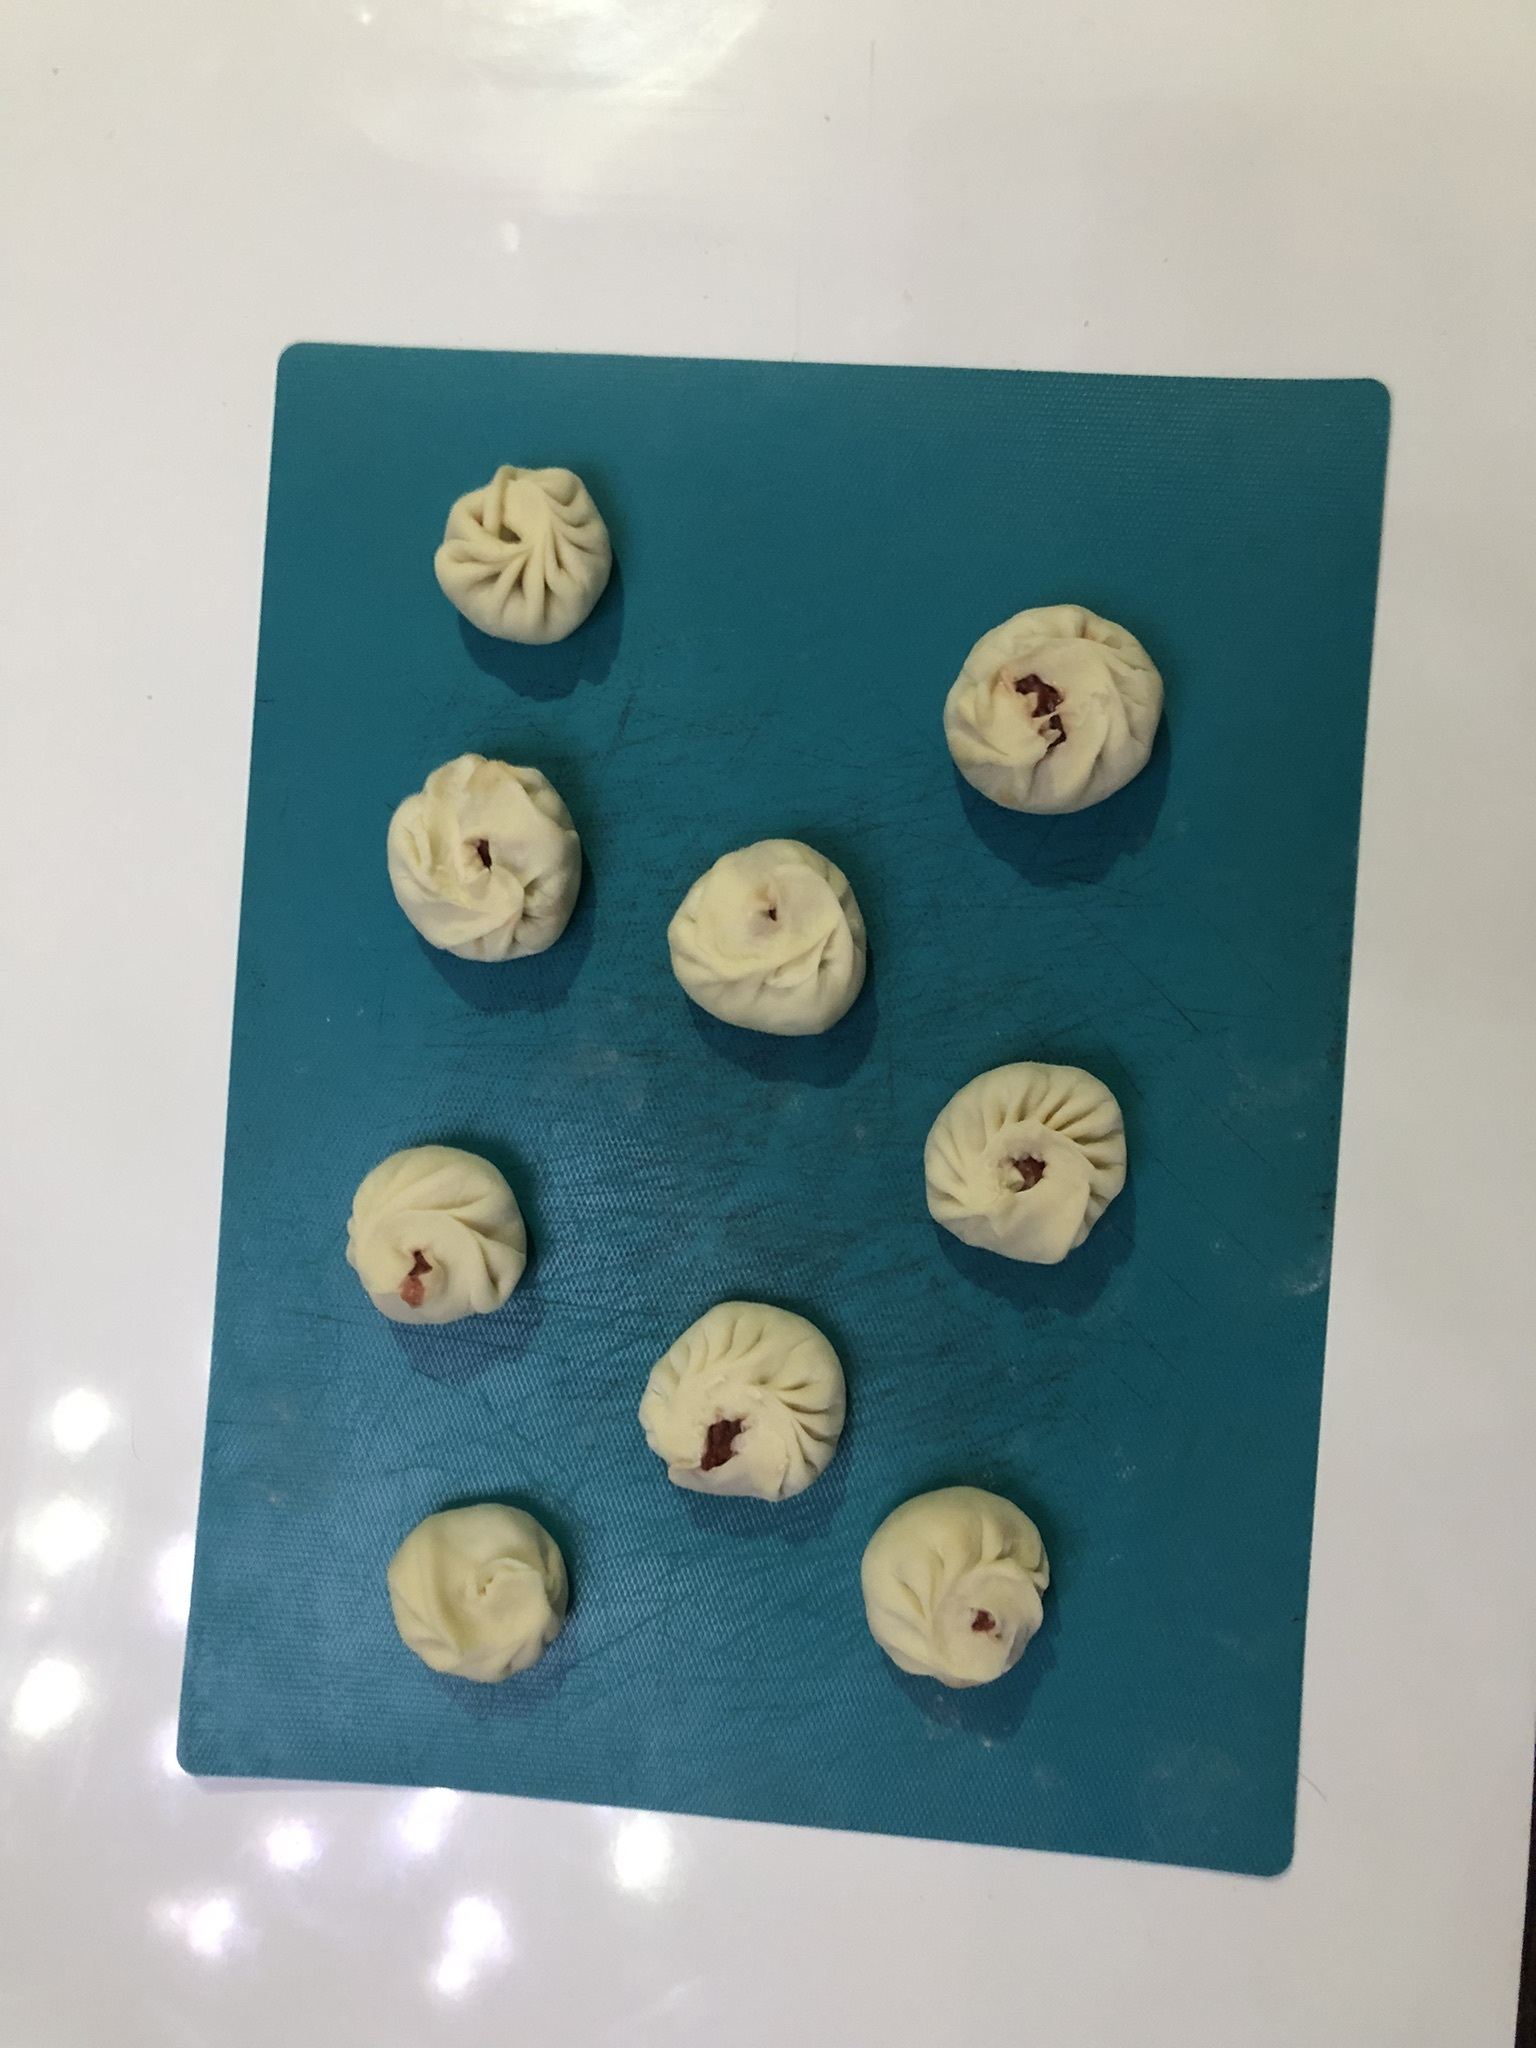buuz: (936, 590, 1175, 832), (904, 1045, 1142, 1277), (845, 1476, 1071, 1713), (652, 826, 878, 1058), (378, 739, 594, 972), (626, 1287, 852, 1509), (419, 452, 626, 660), (381, 1493, 595, 1693), (339, 1138, 541, 1330)
